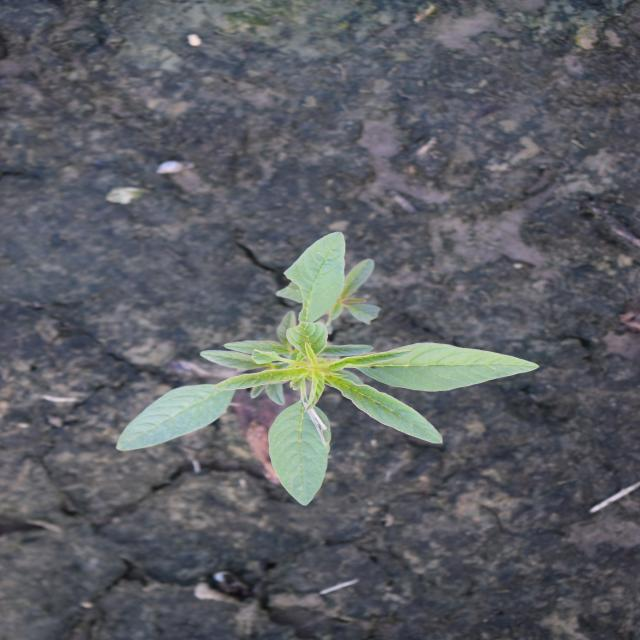Waterhemp: (113, 230, 544, 510)
